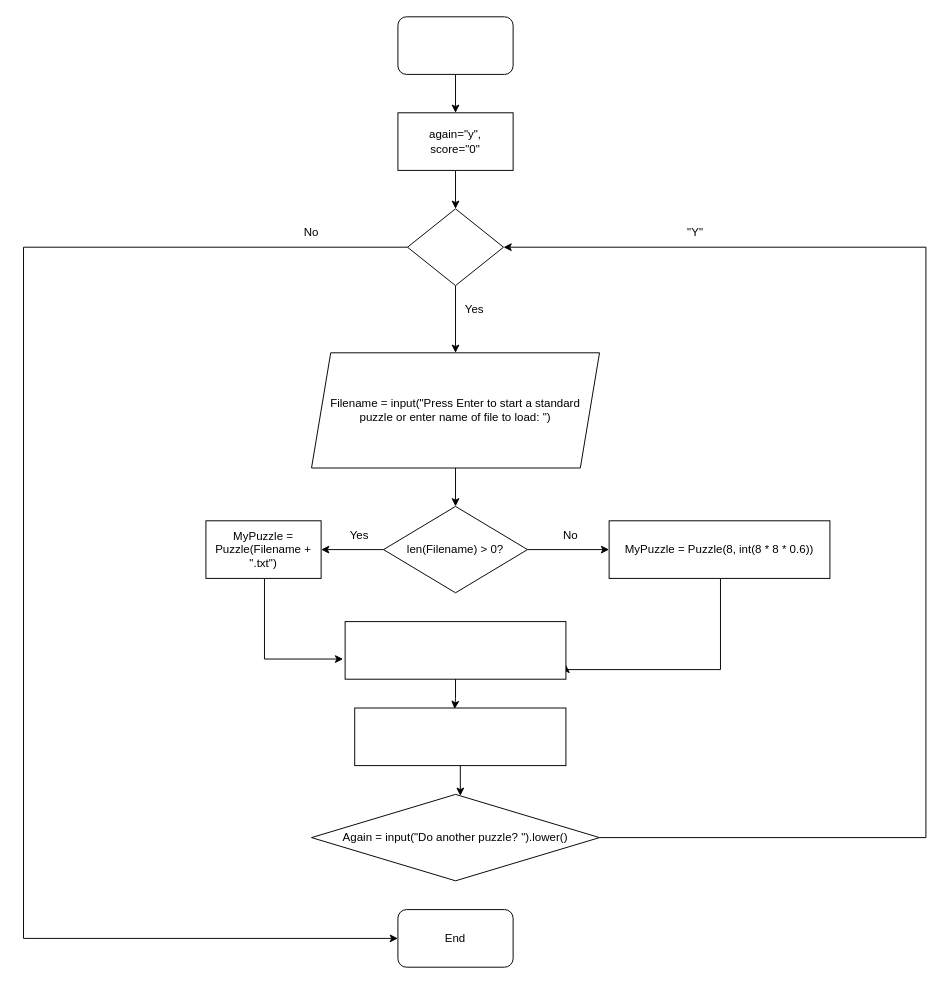
Some shapes in this 950 by 984 pixel diagram are drawn without their labels. The centre of each missing label's shape, as x and y in pixels:
Again == "y"?: (x=455, y=247)
Main(): (x=455, y=45)
print("Puzzle finished. Your score was: " + str(Score)): (x=460, y=736)
Score = MyPuzzle.AttemptPuzzle(): (x=455, y=650)
